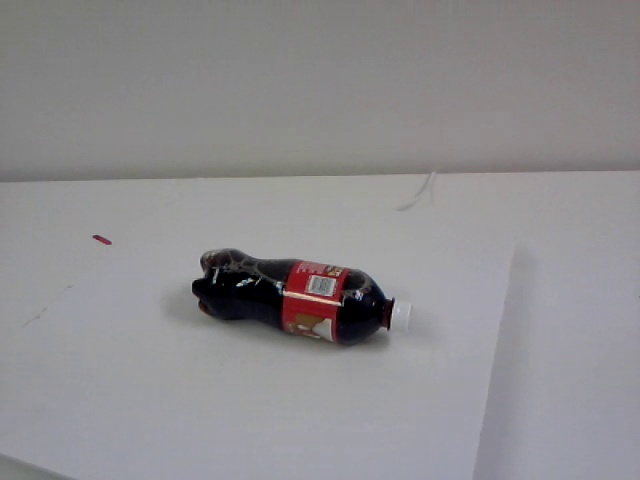botolplastik: (193, 247, 411, 344)
